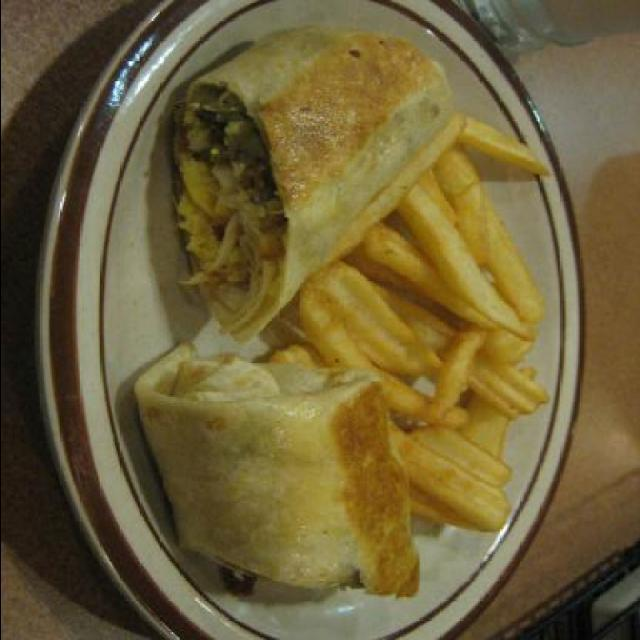French fries: (256, 63, 536, 395)
